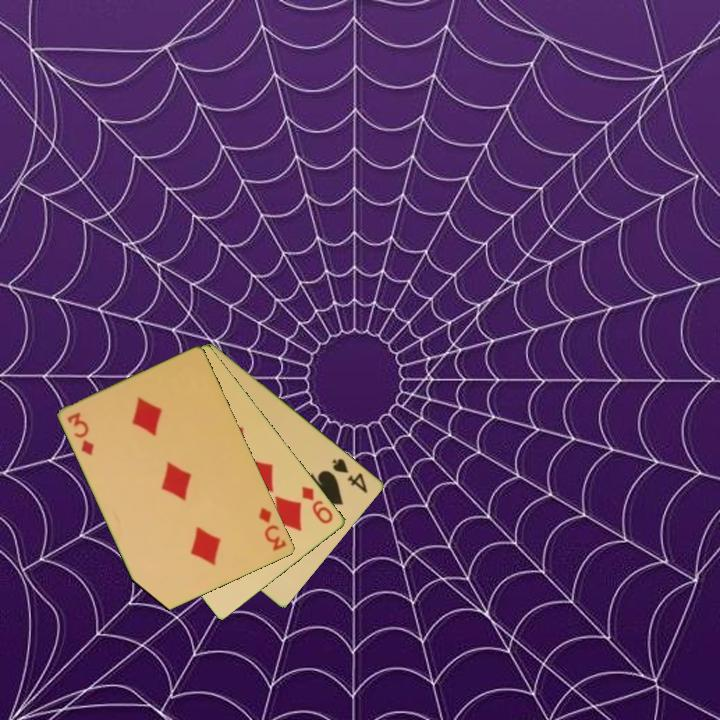3d: (255, 504, 290, 555), (64, 409, 97, 459)
4s: (329, 454, 371, 496)
9d: (298, 483, 336, 527)
